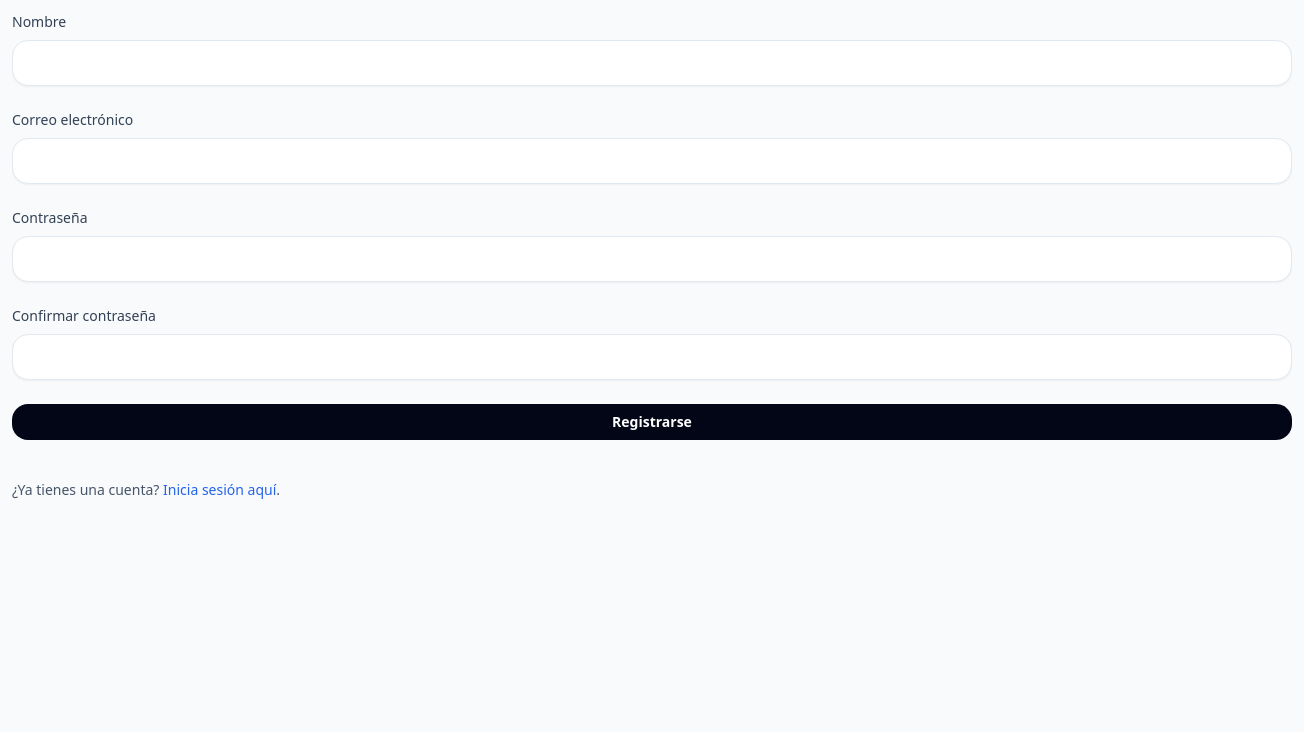
Test: RegisterForm › muestra los errores de validacion al enviar un formulario vacio
Click the button "Registrarse" at (652, 422), box [12,404,1292,440]
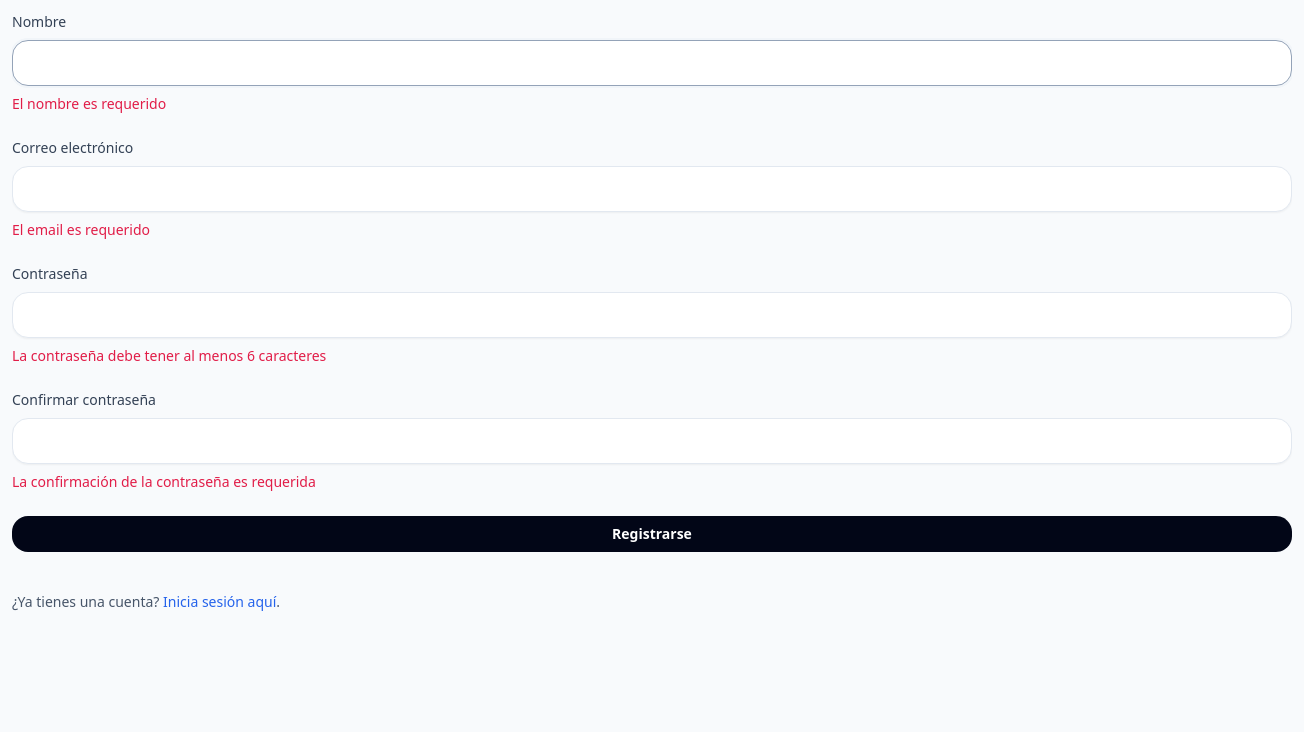
Check: the text "El nombre es requerido" is shown, box [12,94,166,113]
Check: the text "El email es requerido" is shown, box [12,220,150,239]
Check: the text "La contraseña debe tener al menos 6 caracteres" is shown, box [12,346,326,365]
